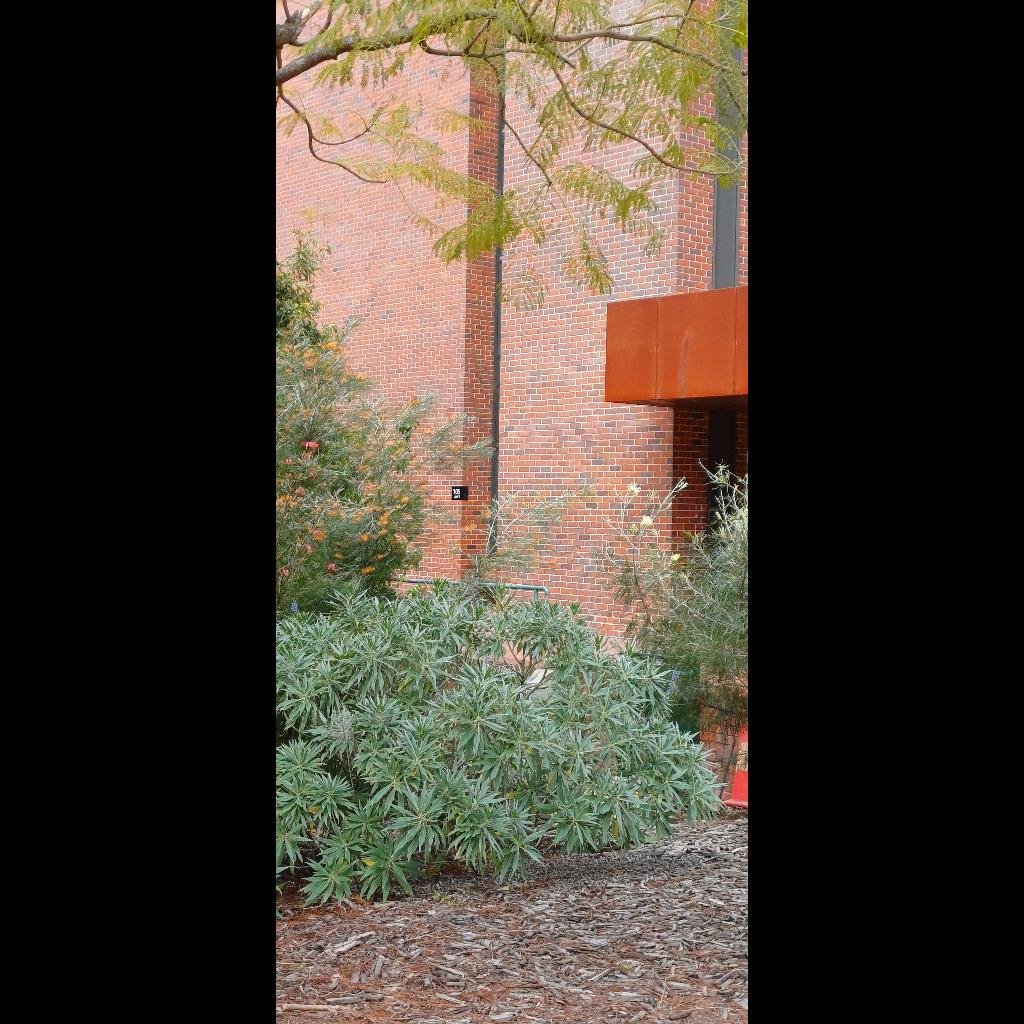BuildingCodes: (451, 486, 463, 496)
